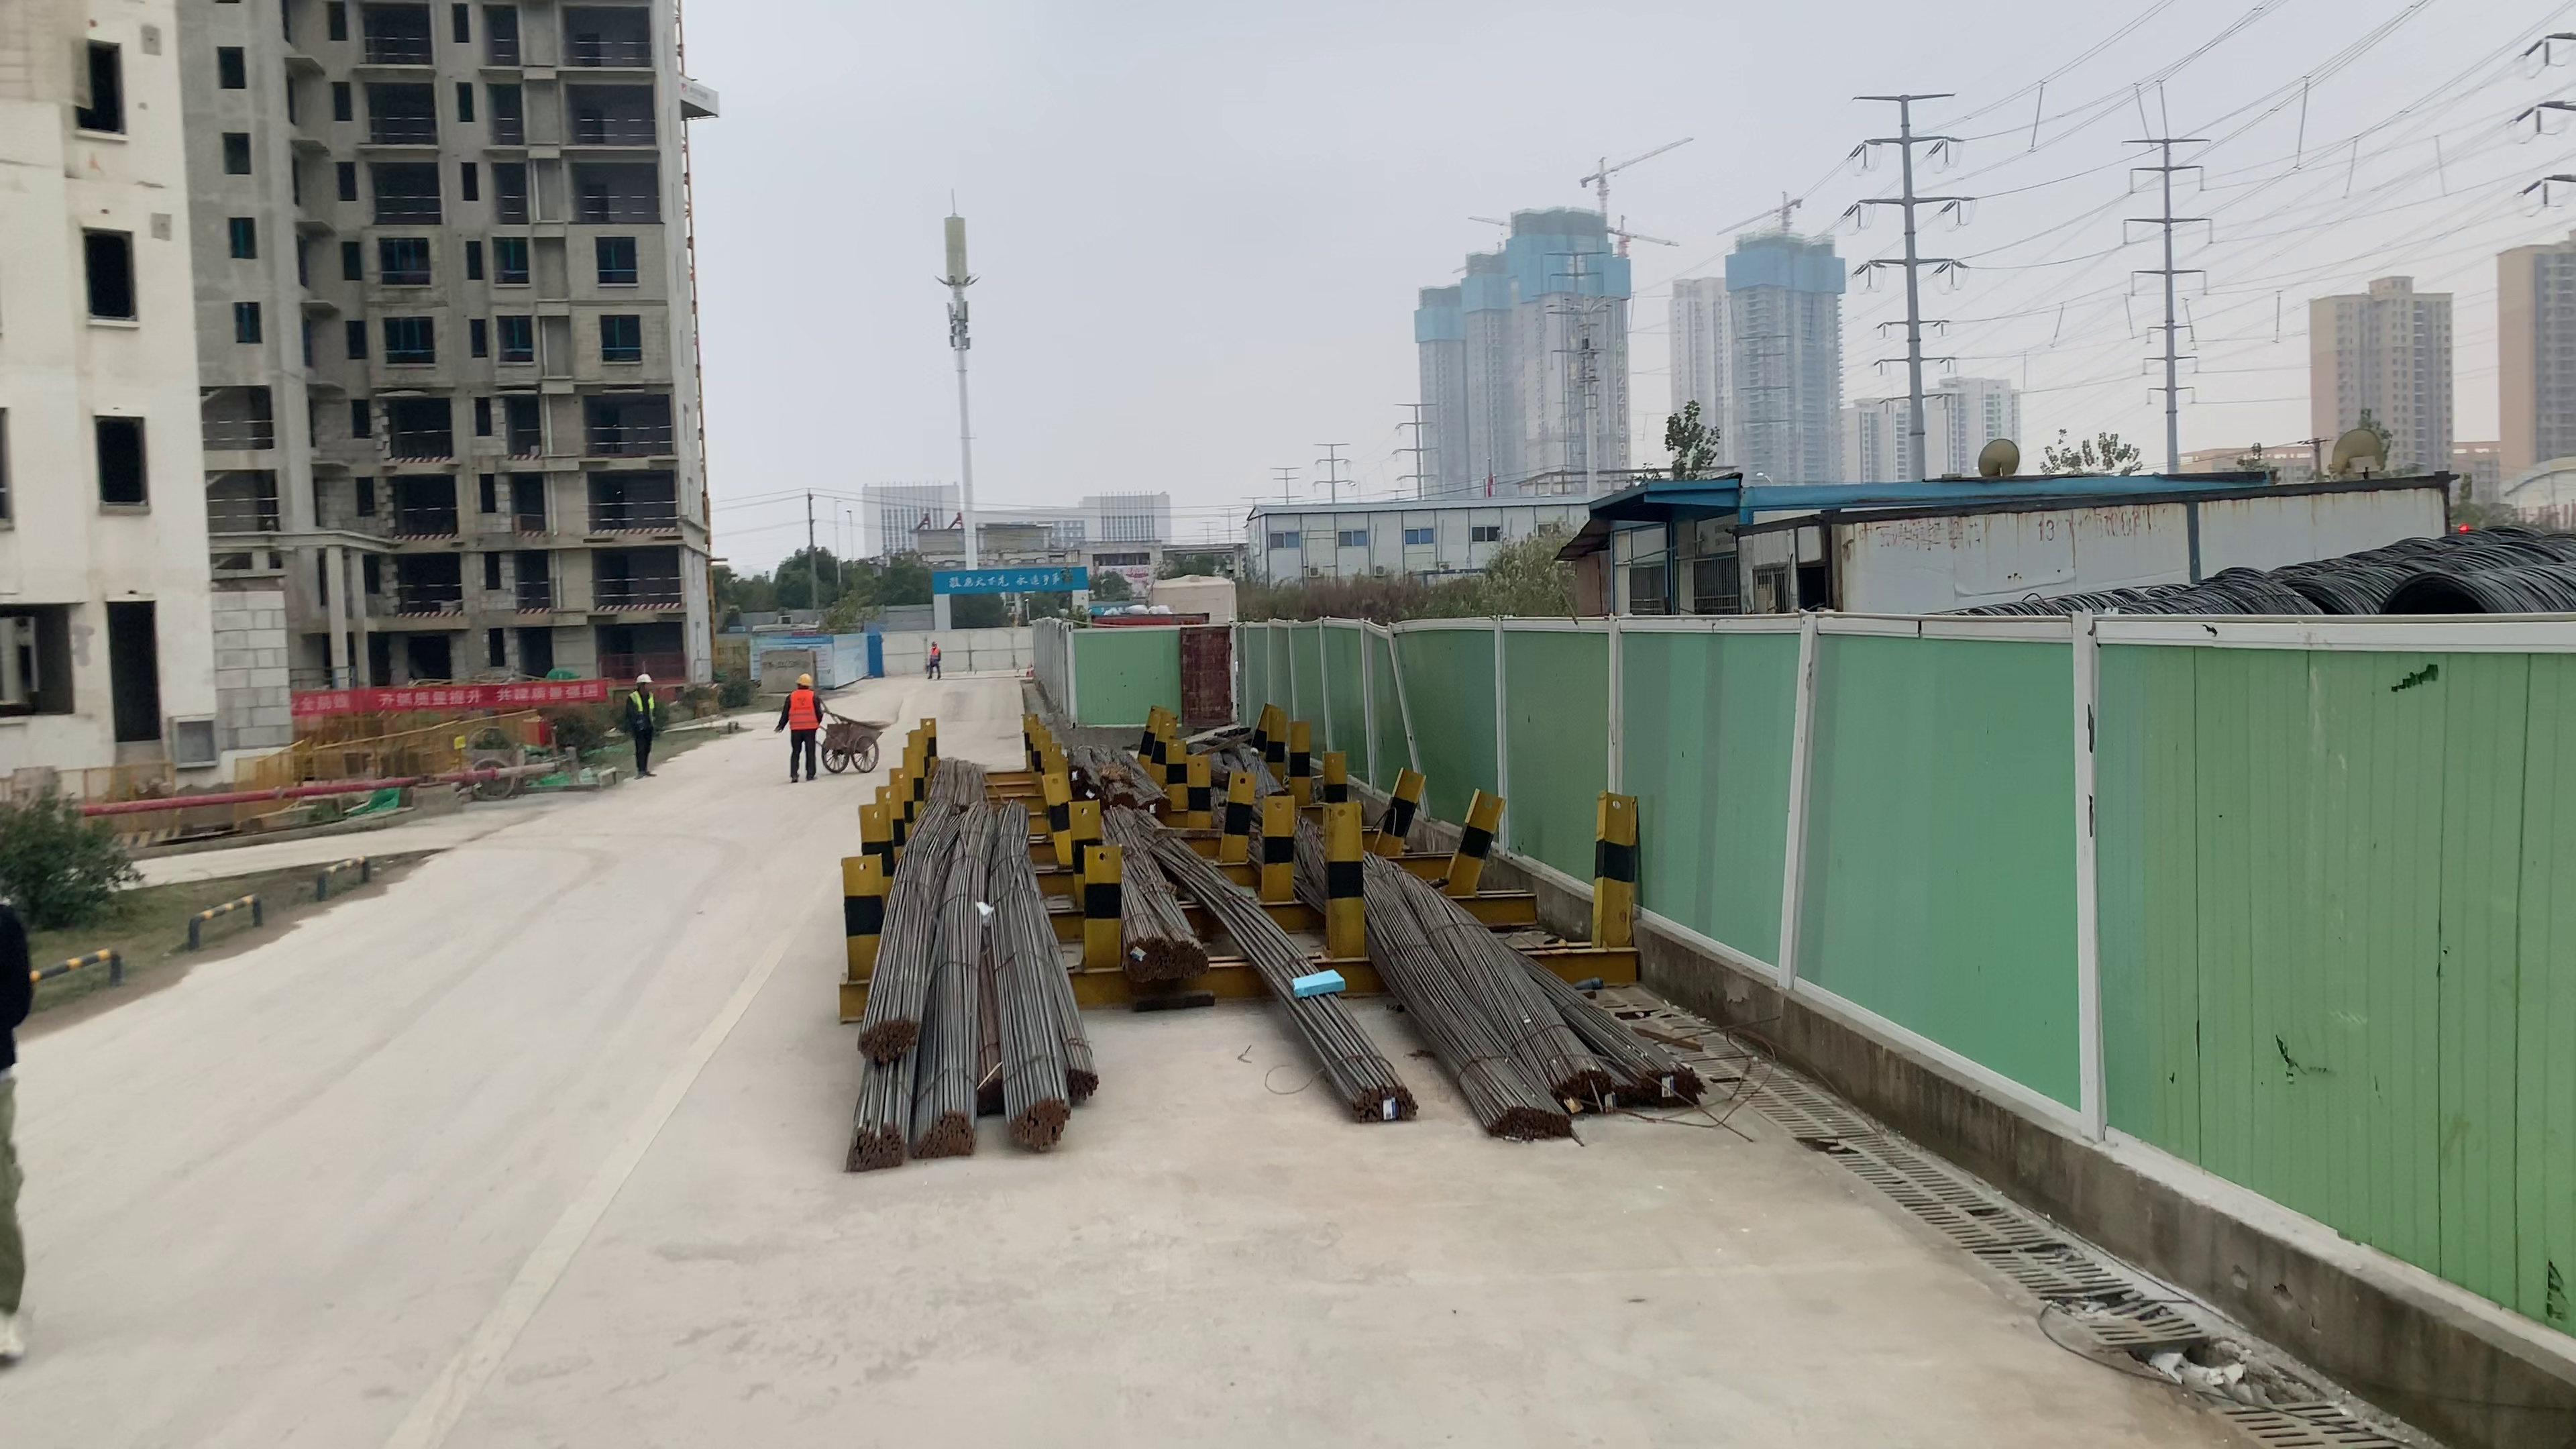rebar: (1488, 1099, 1573, 1145), (1010, 1097, 1070, 1154), (844, 1118, 902, 1169), (858, 1014, 918, 1062), (913, 1111, 975, 1157), (1621, 1069, 1691, 1108), (1550, 1067, 1610, 1109), (1353, 1081, 1414, 1122), (1122, 936, 1168, 982), (1169, 938, 1214, 982), (1063, 1056, 1102, 1102), (970, 1069, 1010, 1109)
